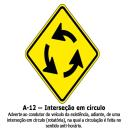Rotatoria: (21, 2, 104, 104)
